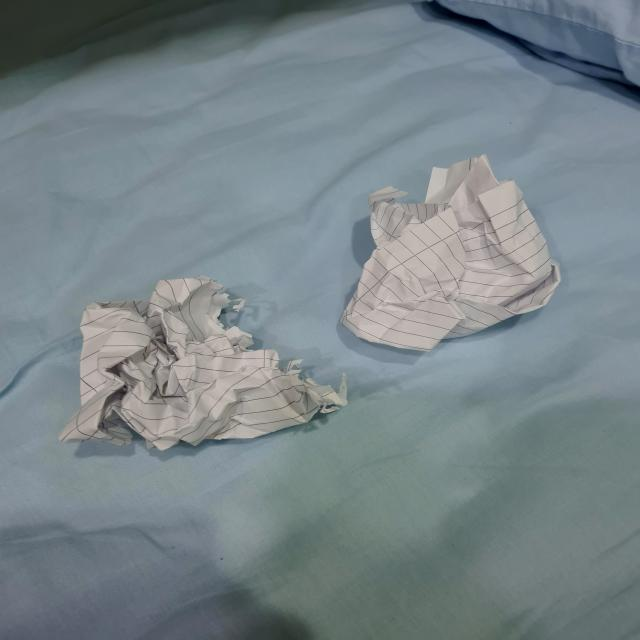Paper: (44, 262, 363, 470), (316, 140, 577, 362)
